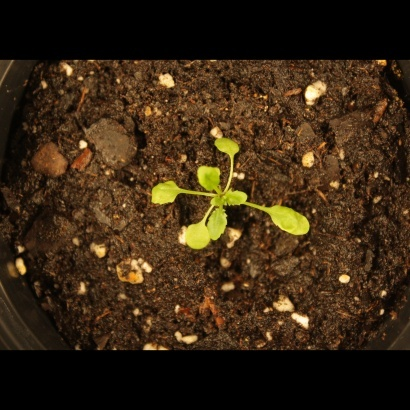leaf: (263, 200, 312, 242), (148, 173, 184, 208), (205, 202, 230, 242), (195, 159, 222, 193), (185, 221, 212, 253), (211, 133, 245, 158), (218, 187, 250, 210)
